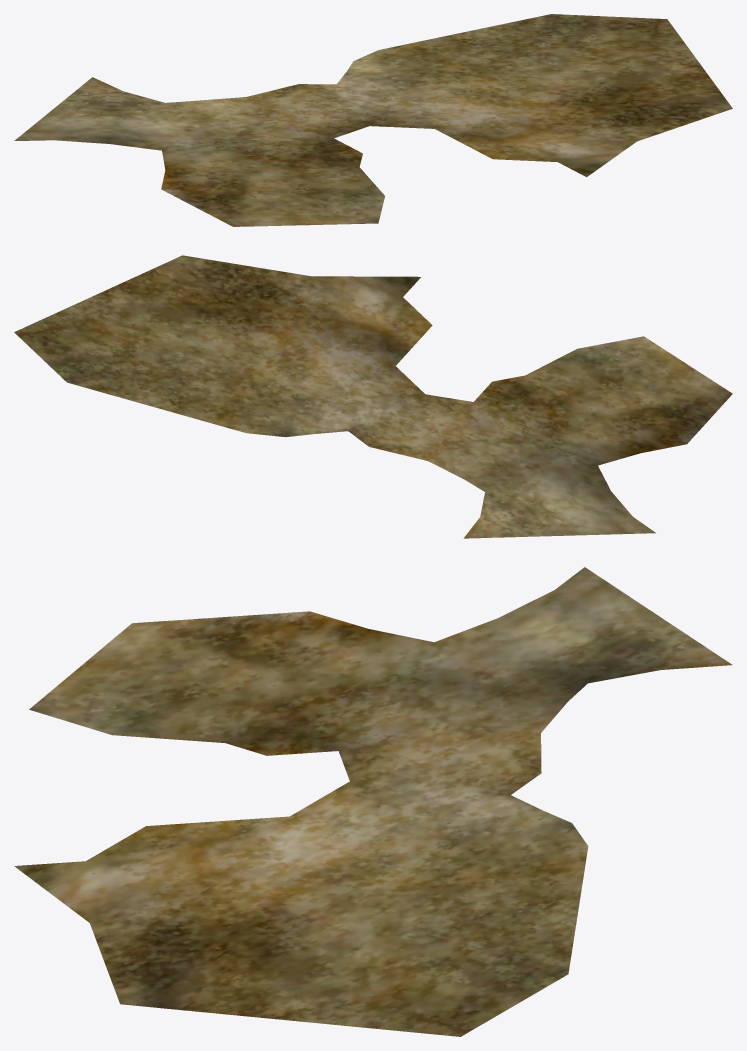
Rendered from TROLLHOLE02_ZRM_PSURF113.fbx.
3 renders of one model, top to bottom at view 1: azimuth 30°, elevation 25°; view 2: azimuth 150°, elevation 25°; view 3: azimuth 270°, elevation 25°, orthographic. The views are drawn at different scales.
Parts seen in each view (by area): view 1: TROLLHOLE02_ZRM_PSURF113; view 2: TROLLHOLE02_ZRM_PSURF113; view 3: TROLLHOLE02_ZRM_PSURF113.
Part boxes in pixels (x1,y1,x2,y2): TROLLHOLE02_ZRM_PSURF113: (14, 14, 732, 226); TROLLHOLE02_ZRM_PSURF113: (14, 255, 732, 538); TROLLHOLE02_ZRM_PSURF113: (14, 567, 732, 1036).
Bounding box in the file's own units: 243395 × 791 × 156815.
Materials: 1 (1 with a texture image).
